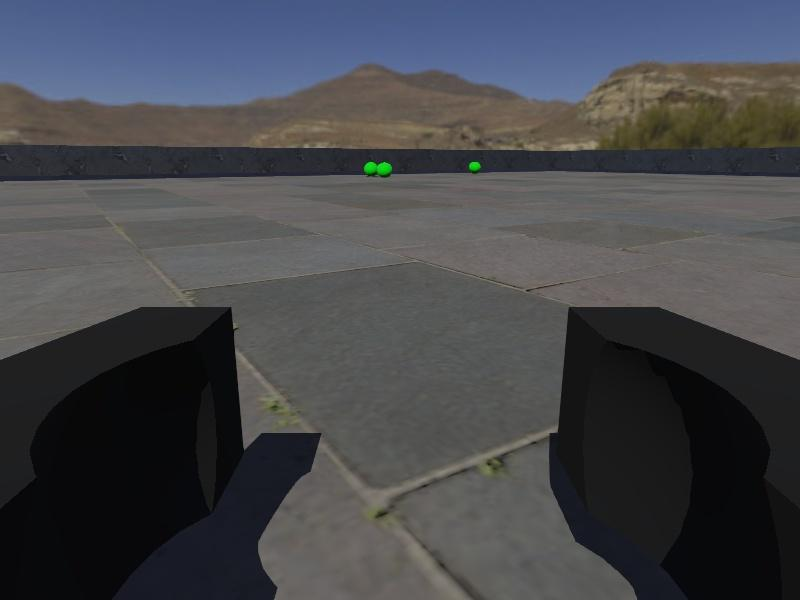green ball: (376, 161, 392, 177), (468, 159, 482, 172)
